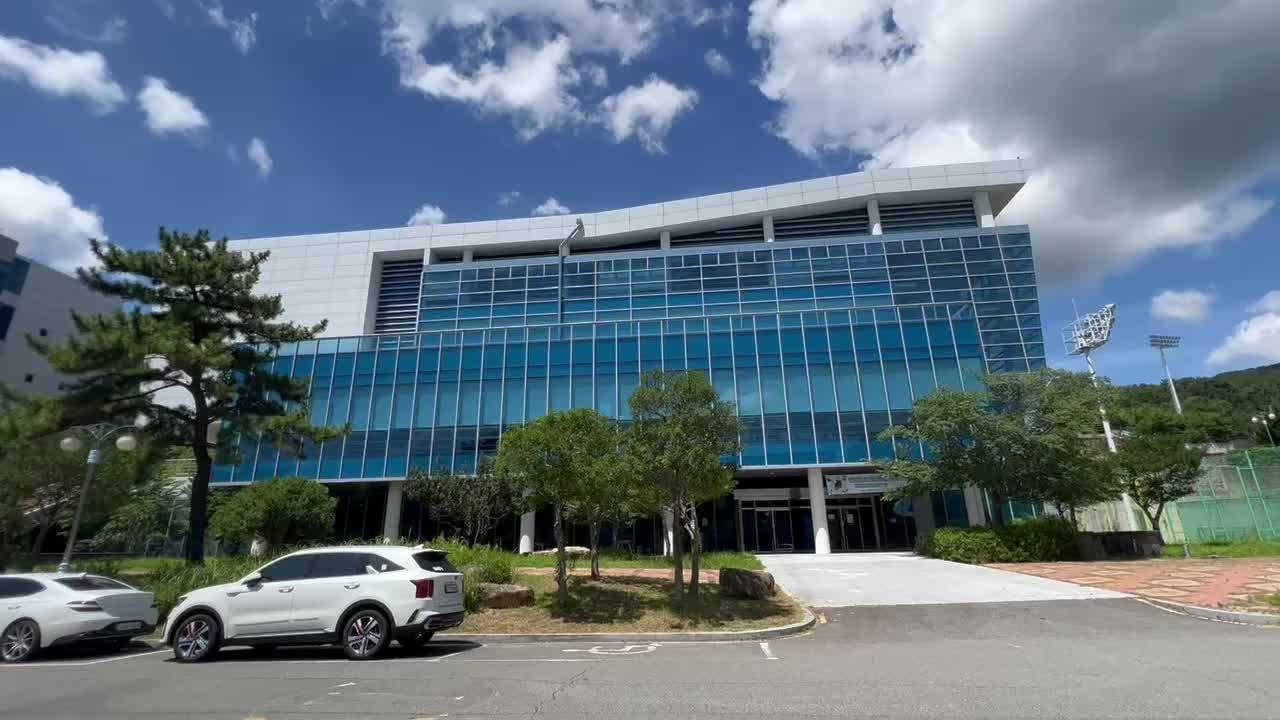building: (294, 130, 1053, 408)
